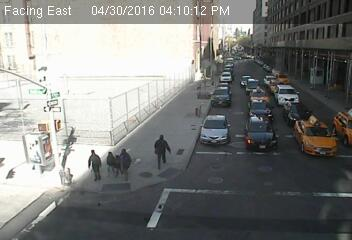neg: (47, 134, 74, 168), (36, 90, 62, 124), (185, 85, 210, 117)
pos: (71, 144, 103, 186), (148, 129, 179, 170), (115, 146, 139, 178), (97, 147, 117, 173)
